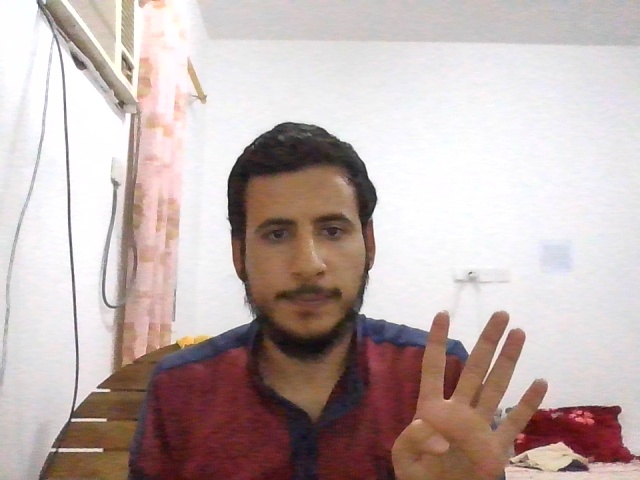Four: (390, 310, 549, 480)
